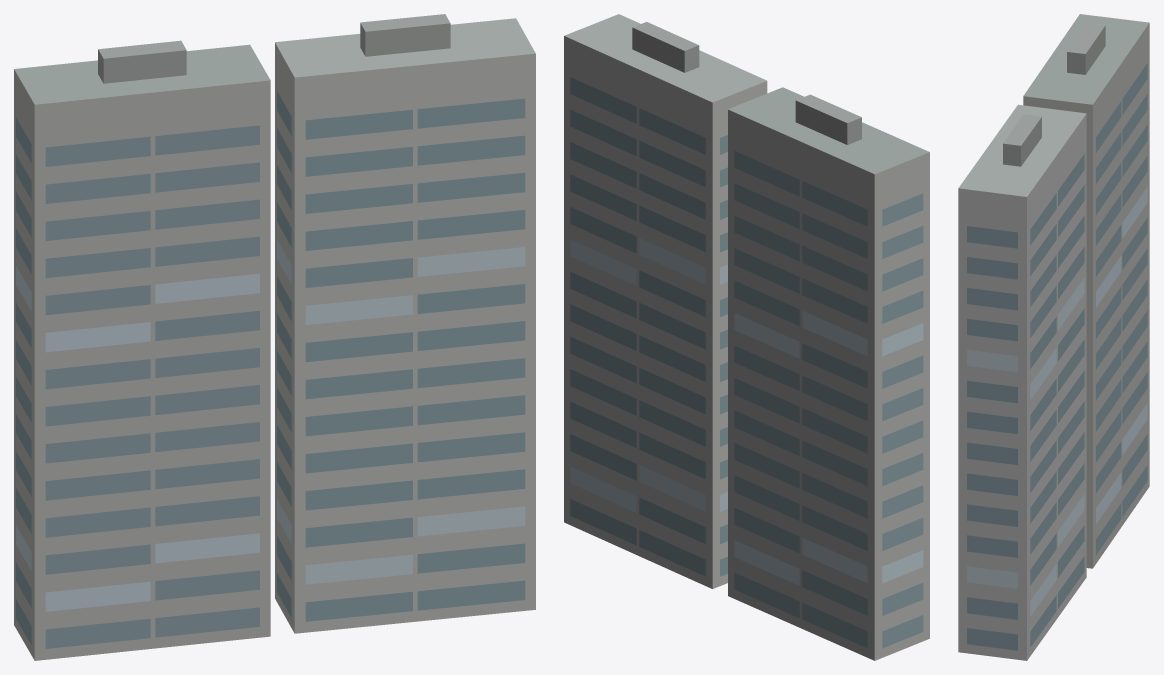
The model's file is apt-a15288801.glb.
3 views of the same model, side by side, from view 1: azimuth 30°, elevation 25°; view 2: azimuth 150°, elevation 25°; view 3: azimuth 270°, elevation 25° (orthographic). The views are drawn at different scales.
Parts seen in each view (by area): view 1: apt-a15288801; view 2: apt-a15288801; view 3: apt-a15288801.
Boxes of the visible parts, box(x1,y1,x2,y2) form: apt-a15288801: box(14, 14, 535, 660); apt-a15288801: box(564, 14, 929, 660); apt-a15288801: box(958, 14, 1149, 660).
Bounding box in the file's own units: 38.71 × 47.81 × 17.1.
